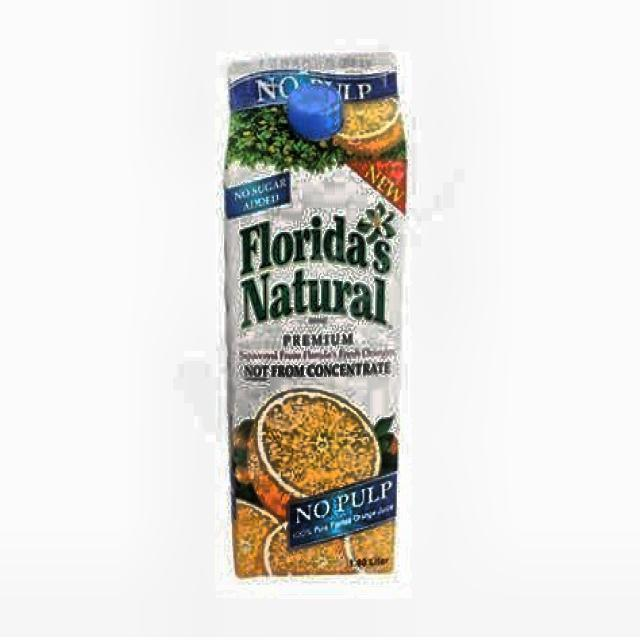cardboard: (221, 51, 408, 578)
